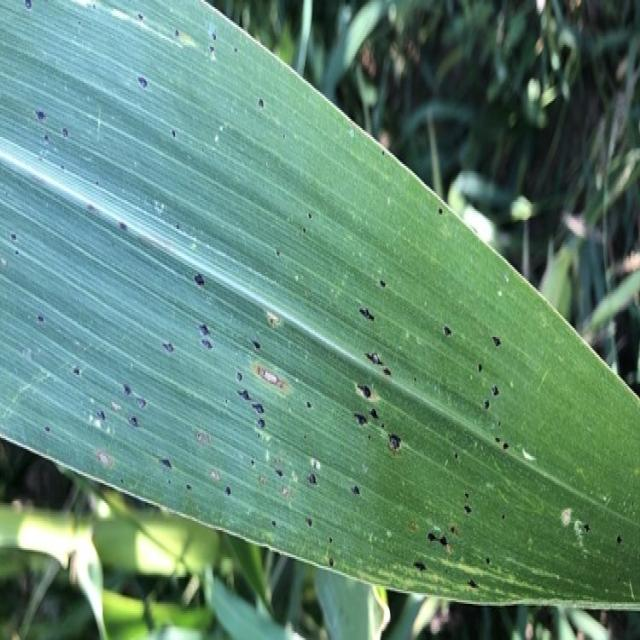Tar_Spot: (349, 294, 408, 469), (472, 302, 518, 458), (188, 247, 216, 370)
